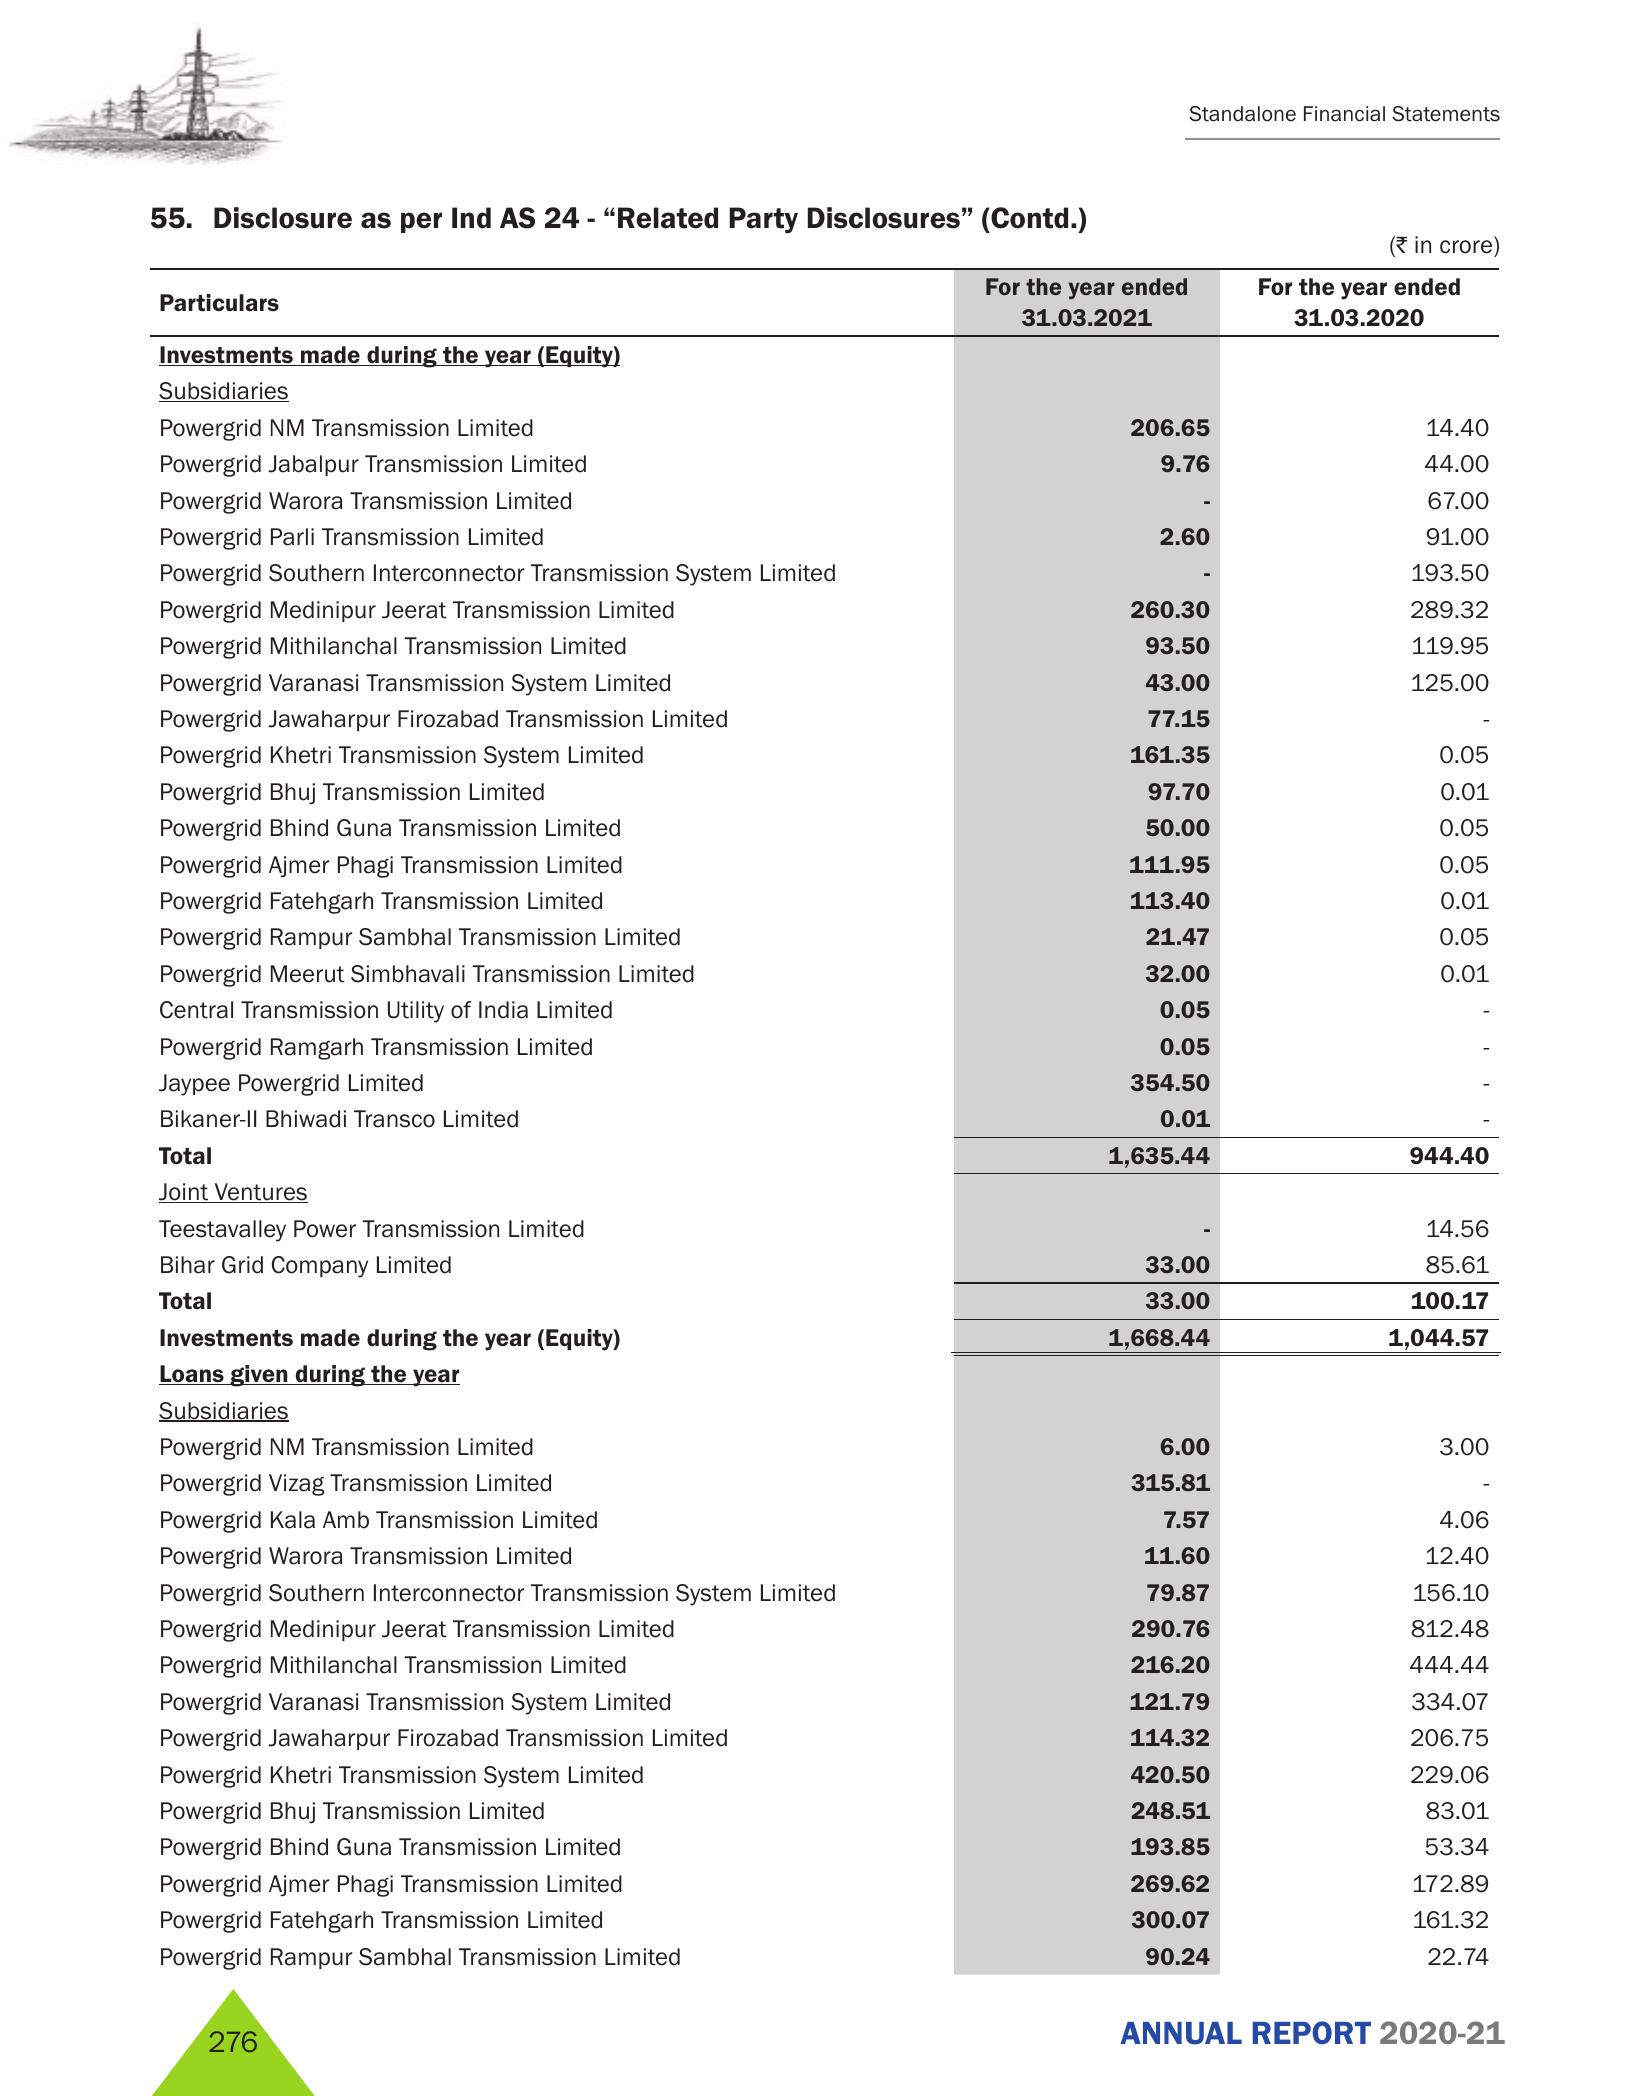Footer: (0, 1974, 1650, 2096)
Header: (0, 0, 1650, 175)
Table: (122, 271, 1511, 1979)
